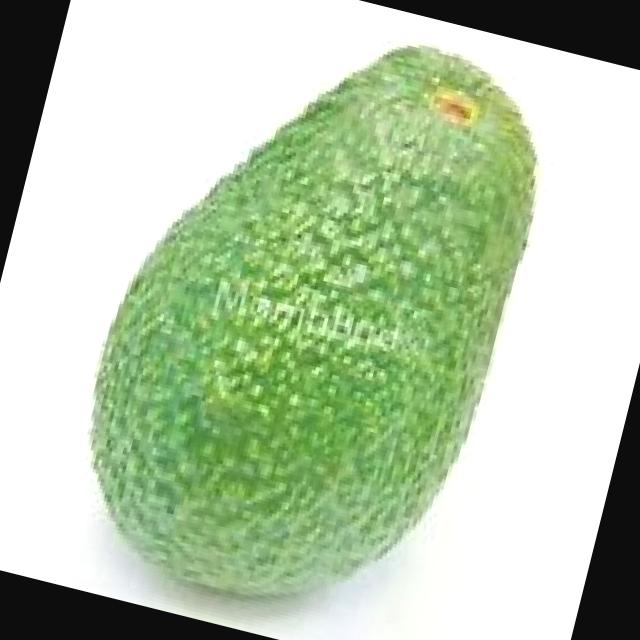avocado: (43, 0, 572, 640)
